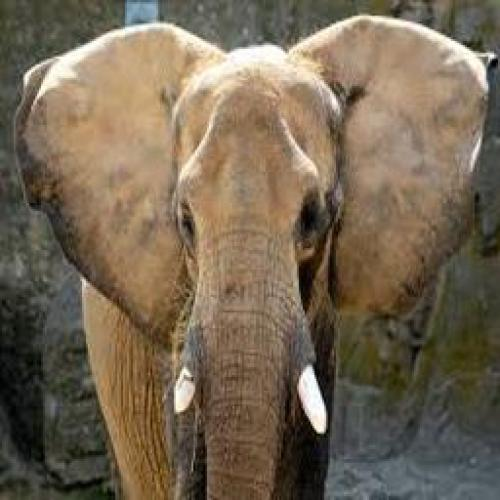african_elephant-endangered: (11, 16, 477, 500)
